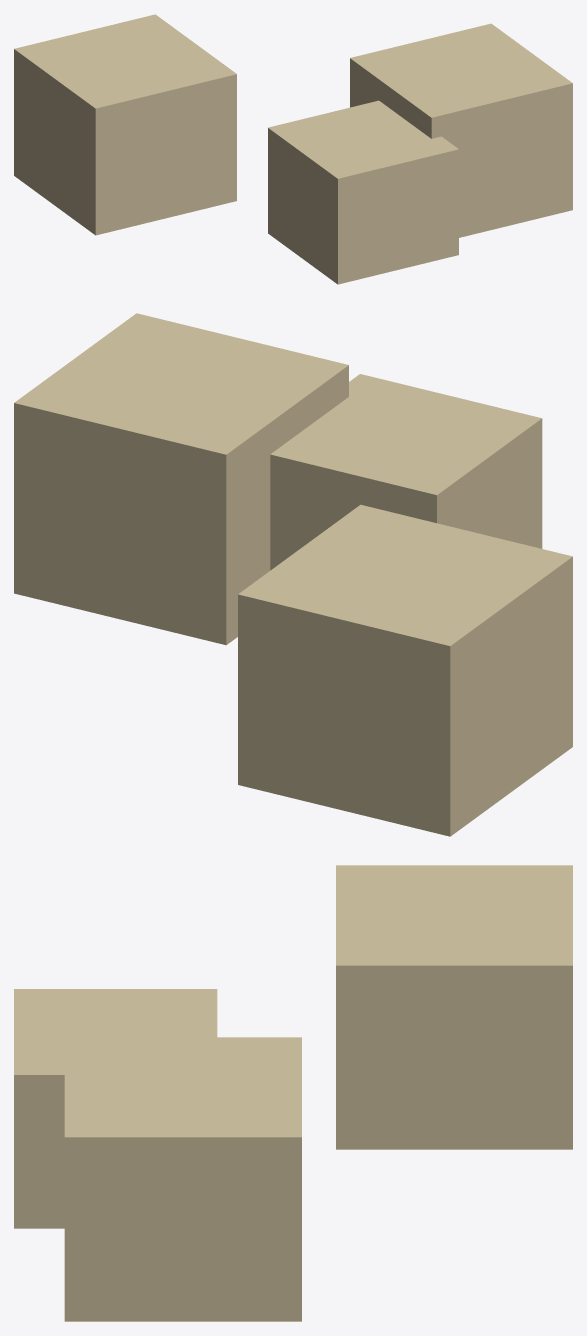
File: camp.gltf
3 views of the same model, one above another, from view 1: azimuth 30°, elevation 25°; view 2: azimuth 150°, elevation 25°; view 3: azimuth 270°, elevation 25° (orthographic). The views are drawn at different scales.
Size of the model in its own units: 19 by 6 by 16.5.
